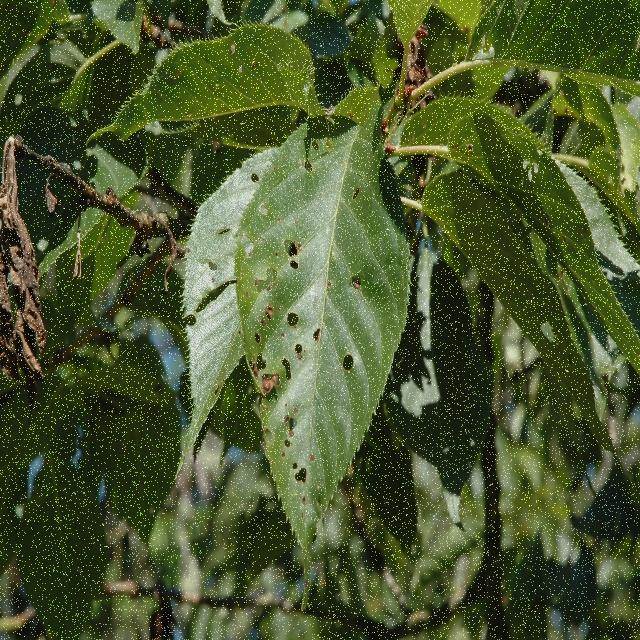shot_hole: (58, 73, 515, 636)
